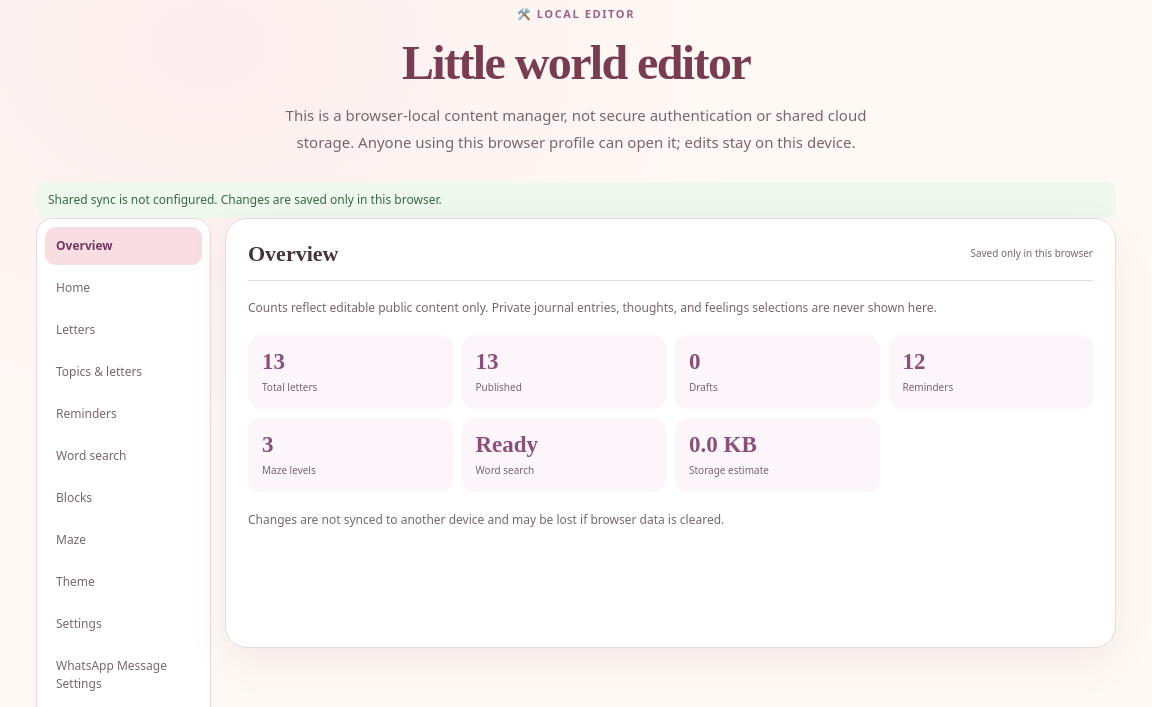
Test: WhatsApp Click to Chat › creates a private draft letter directly from a new topic in the local editor
Step 1. Click the button "Topics & letters" → coordinates (124, 372), box x1=45 y1=353 x2=202 y2=391
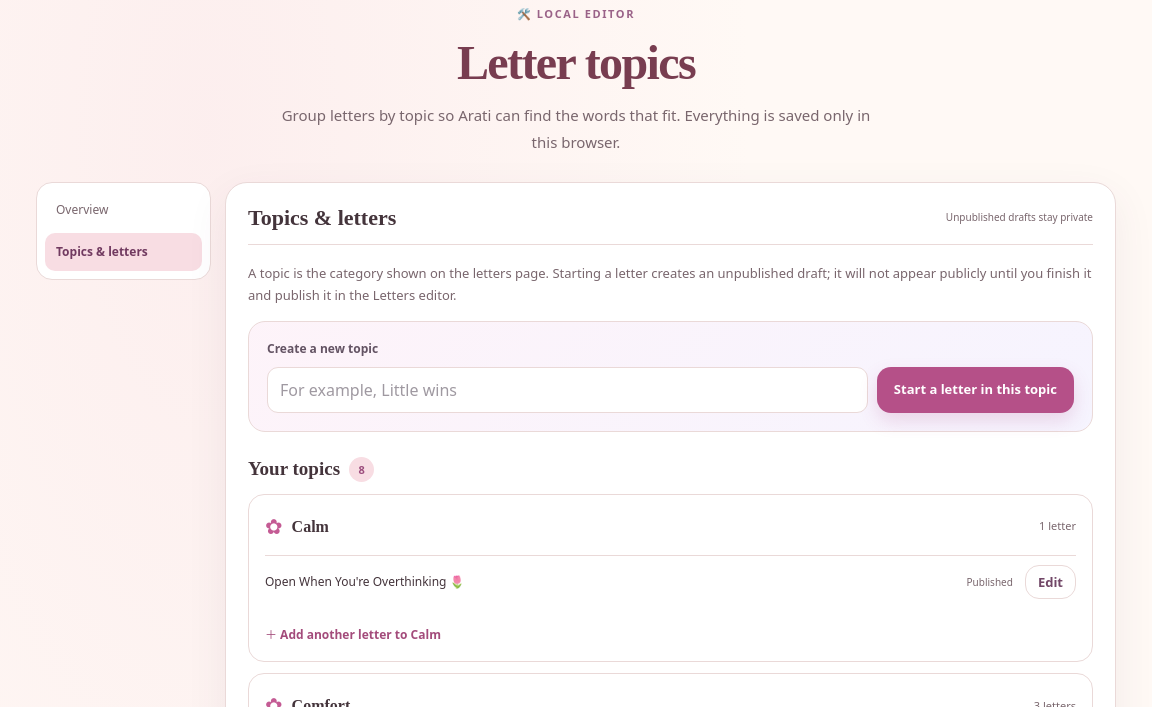
Step 2. Type "Little wins" into the field labelled "Create a new topic" → coordinates (567, 390), box x1=267 y1=367 x2=868 y2=413
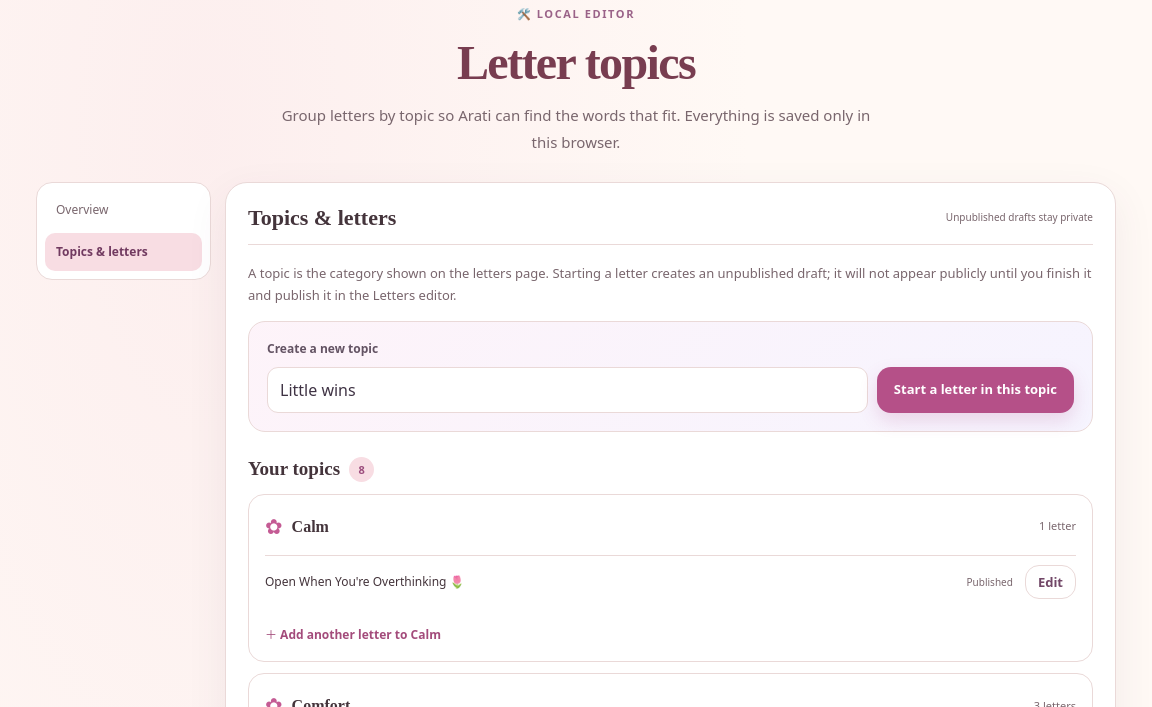
Step 3. Click the button "Start a letter in this topic" → coordinates (975, 390), box x1=877 y1=367 x2=1074 y2=413
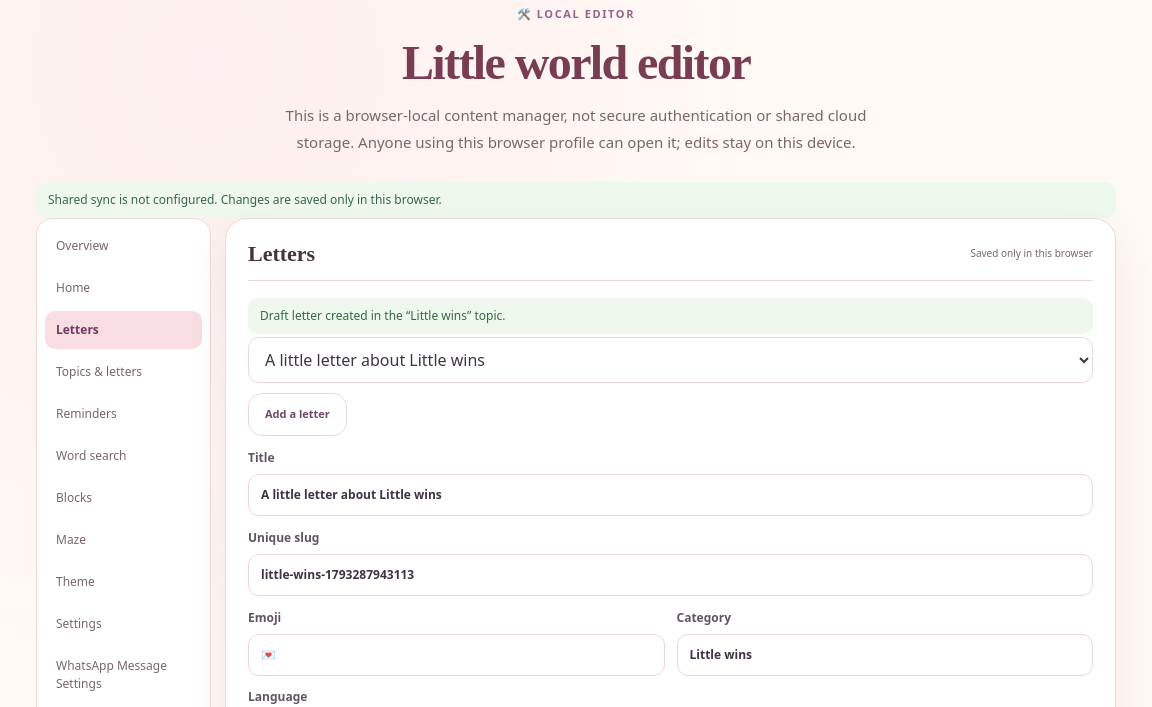
Result: the field labelled "Title" holds "A little letter about Little wins" at x1=248 y1=474 x2=1093 y2=516
Result: the field labelled "Category" holds "Little wins" at x1=676 y1=634 x2=1093 y2=676
